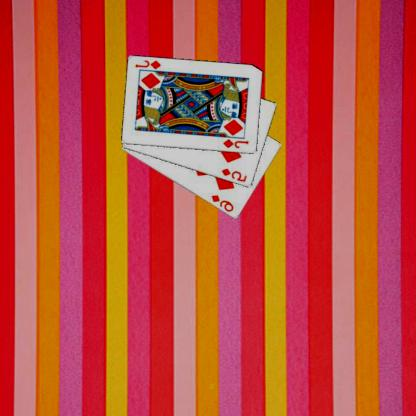5D: (221, 166, 250, 183)
9D: (210, 192, 237, 214)
JD: (222, 137, 252, 149), (135, 58, 164, 70)
